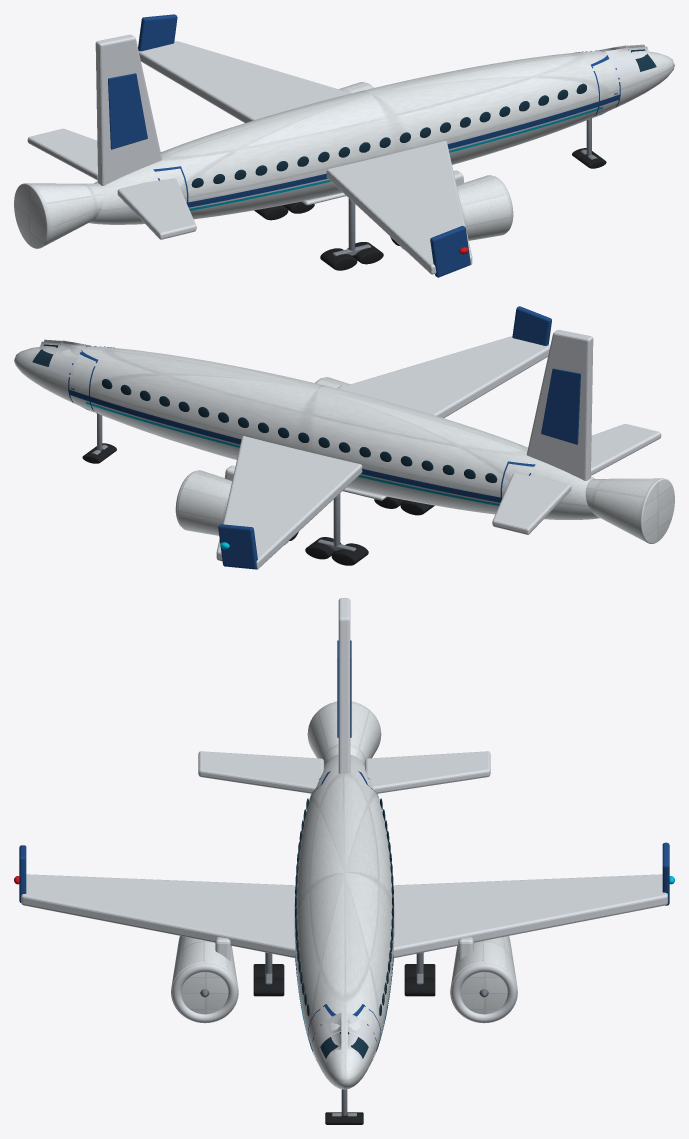
Rendered from yolcu_ucagi.glb.
3 renders of one model, top to bottom at view 1: azimuth 30°, elevation 25°; view 2: azimuth 150°, elevation 25°; view 3: azimuth 270°, elevation 25°, orthographic. The views are drawn at different scales.
Parts seen in each view (by area): view 1: Ana_Govde, Sol_Kanat, Sag_Kanat, Dikey_Kuyruk, Kuyruk_Konisi, Sol_Yatay_Kuyruk, Sol_Motor_Nasel, Dikey_Kuyruk_Logo, Sag_Yatay_Kuyruk, Lacivert_Serit_Sol, Winglet_Sol, Winglet_Sag (+4 smaller); view 2: Ana_Govde, Sag_Kanat, Sol_Kanat, Dikey_Kuyruk, Kuyruk_Konisi, Sag_Yatay_Kuyruk, Sag_Motor_Nasel, Dikey_Kuyruk_Logo_Diger, Sol_Yatay_Kuyruk, Lacivert_Serit_Sag, Winglet_Sag, Winglet_Sol (+4 smaller); view 3: Ana_Govde, Sag_Kanat, Sol_Kanat, Sag_Yatay_Kuyruk, Sol_Yatay_Kuyruk, Sag_Motor_Nasel, Sol_Motor_Nasel, Kuyruk_Konisi, Dikey_Kuyruk, Sag_Motor_Giris_Halkasi, Sol_Motor_Giris_Halkasi.
Boxes of the visible parts, left/top/right/bottom form: Ana_Govde: left=89, top=50, right=674, bottom=224; Sol_Kanat: left=326, top=141, right=472, bottom=274; Sag_Kanat: left=138, top=41, right=351, bottom=122; Dikey_Kuyruk: left=95, top=34, right=162, bottom=185; Kuyruk_Konisi: left=14, top=183, right=103, bottom=248; Sol_Yatay_Kuyruk: left=117, top=178, right=196, bottom=239; Sol_Motor_Nasel: left=400, top=175, right=511, bottom=249; Dikey_Kuyruk_Logo: left=108, top=73, right=147, bottom=149; Sag_Yatay_Kuyruk: left=27, top=128, right=97, bottom=180; Lacivert_Serit_Sol: left=186, top=94, right=619, bottom=207; Winglet_Sol: left=430, top=226, right=470, bottom=277; Winglet_Sag: left=138, top=14, right=177, bottom=51; Ana_Govde: left=14, top=345, right=599, bottom=519; Sag_Kanat: left=216, top=436, right=362, bottom=569; Sol_Kanat: left=337, top=336, right=550, bottom=418; Dikey_Kuyruk: left=526, top=330, right=593, bottom=480; Kuyruk_Konisi: left=585, top=478, right=674, bottom=543; Sag_Yatay_Kuyruk: left=492, top=473, right=571, bottom=534; Sag_Motor_Nasel: left=177, top=470, right=288, bottom=544; Dikey_Kuyruk_Logo_Diger: left=541, top=368, right=580, bottom=444; Sol_Yatay_Kuyruk: left=591, top=424, right=661, bottom=475; Lacivert_Serit_Sag: left=69, top=390, right=502, bottom=502; Winglet_Sag: left=218, top=524, right=257, bottom=569; Winglet_Sol: left=512, top=306, right=551, bottom=345; Ana_Govde: left=294, top=754, right=394, bottom=1089; Sag_Kanat: left=393, top=874, right=667, bottom=958; Sol_Kanat: left=21, top=874, right=295, bottom=958; Sag_Yatay_Kuyruk: left=365, top=751, right=490, bottom=793; Sol_Yatay_Kuyruk: left=198, top=751, right=323, bottom=793; Sag_Motor_Nasel: left=450, top=936, right=517, bottom=1018; Sol_Motor_Nasel: left=171, top=936, right=238, bottom=1018; Kuyruk_Konisi: left=307, top=701, right=381, bottom=765; Dikey_Kuyruk: left=338, top=598, right=350, bottom=773; Sag_Motor_Giris_Halkasi: left=451, top=963, right=516, bottom=1023; Sol_Motor_Giris_Halkasi: left=172, top=963, right=237, bottom=1023.
Size of the model in its own units: 12.72 by 4.68 by 10.32.
Materials: 10 (1 with a texture image).
